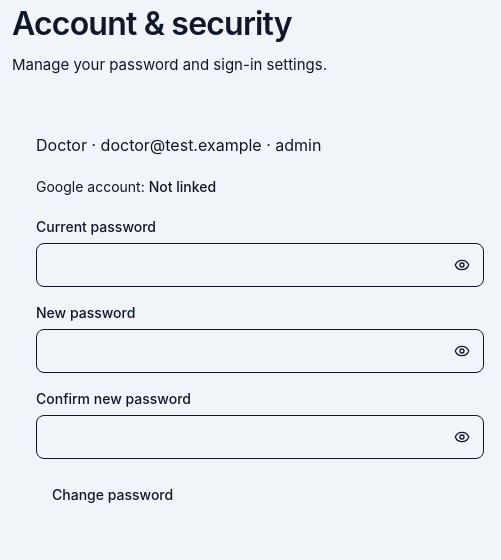
Test case: account settings never show session tokens and reject mismatched confirmation
Expected: the text "Google account: Not linked" is shown, [36,178,216,194]
Type "OldPassword123!" into the password field labelled "Current password" at (260, 264), box [36,242,484,286]
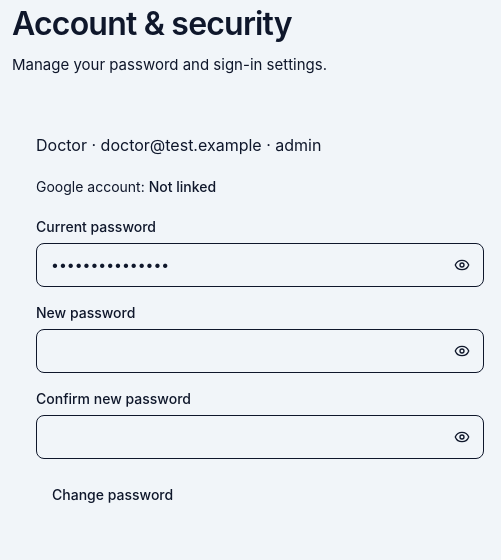
Type "NewPassword123!" into the password field labelled "New password" at (260, 350), box [36,328,484,372]
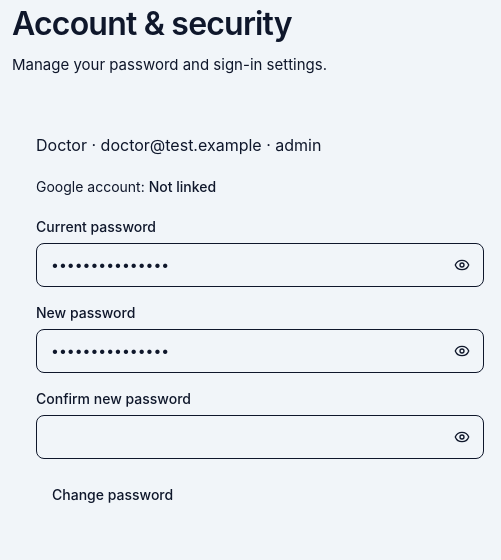
Type "DifferentPassword123!" into the password field labelled "Confirm new password" at (260, 436), box [36,414,484,458]
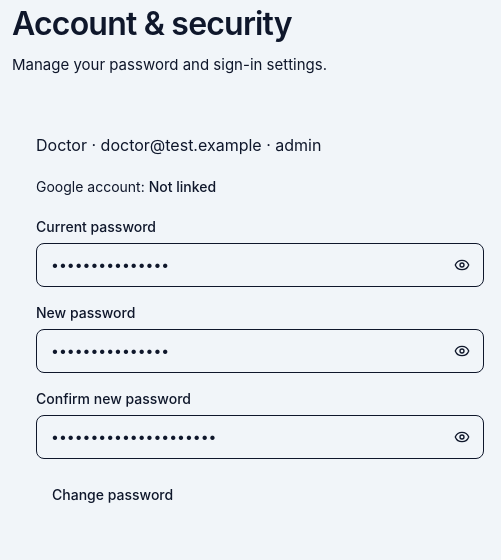
Click the button "Change password" at (113, 494), box [36,474,189,514]
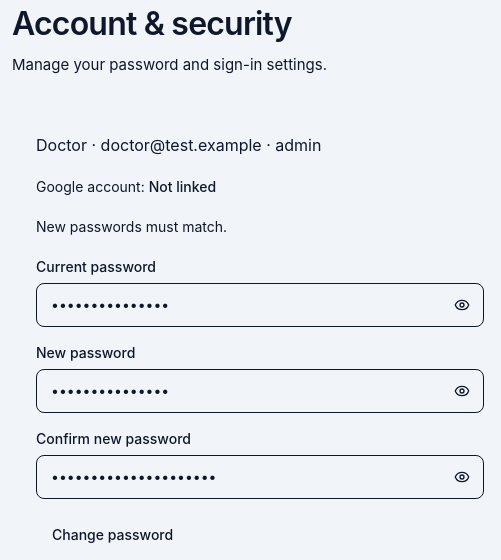
Expected: the message shows "New passwords must match", [36,218,227,234]
